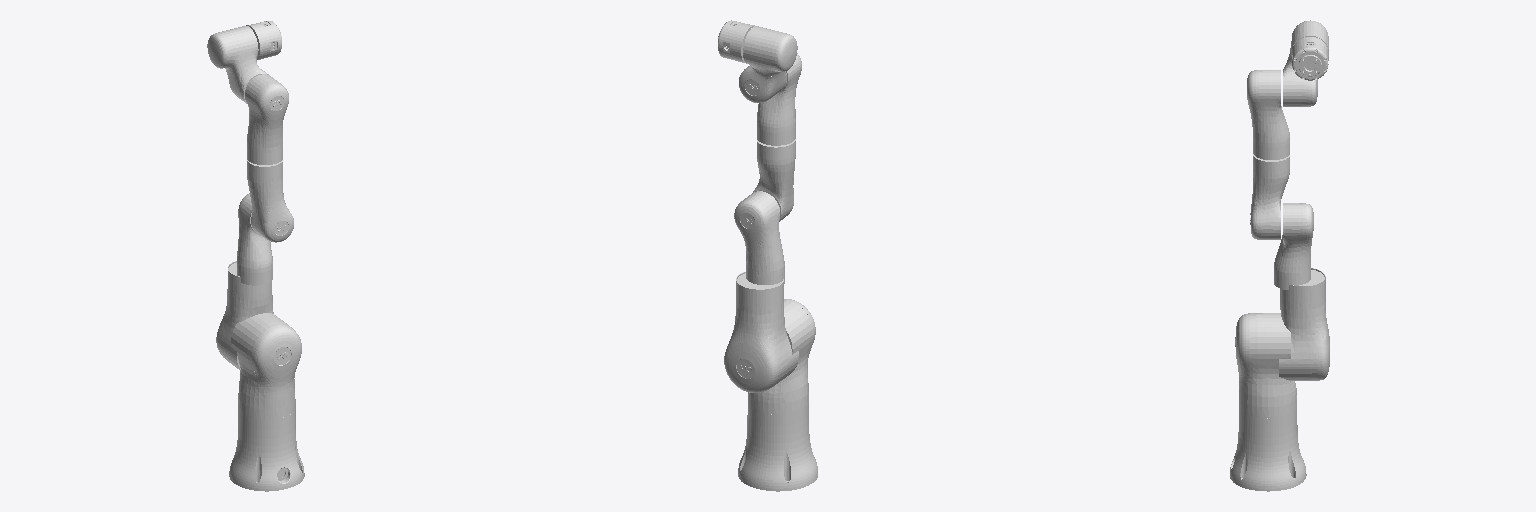
The robot description file, URDF, robot "Rizon4R":
<?xml version="1.0"?>
<!-- ======================================================================== -->
<!-- |          Flexiv Rizon 4R (with blurred dynamic parameters)           | -->
<!-- ======================================================================== -->
<robot name="Rizon4R">
    <joint name="joint1" type="revolute">
        <parent link="base_link" />
        <child link="link1" />
        <origin rpy="3.141592653589793 0.0 -3.141592653589793" xyz="0.0 0.0 0.155" />
        <axis xyz="0 0 1" />
        <limit effort="123" lower="-2.8798" upper="2.8798" velocity="2.0944" />
        <safety_controller k_position="100.0" k_velocity="40.0" soft_lower_limit="-2.7925"
            soft_upper_limit="2.7925" />
    </joint>
    <joint name="joint2" type="revolute">
        <parent link="link1" />
        <child link="link2" />
        <origin rpy="0.0 0.0 -3.141592653589793" xyz="0.0 0.03 -0.21" />
        <axis xyz="0 1 0" />
        <limit effort="123" lower="-2.3562" upper="2.3562" velocity="2.0944" />
        <safety_controller k_position="100.0" k_velocity="40.0" soft_lower_limit="-2.2689"
            soft_upper_limit="2.2689" />
    </joint>
    <joint name="joint3" type="revolute">
        <parent link="link2" />
        <child link="link3" />
        <origin rpy="0.0 0.0 -3.141592653589793" xyz="0.0 -0.035 -0.205" />
        <axis xyz="0 0 1" />
        <limit effort="64" lower="-3.0543" upper="3.0543" velocity="2.4435" />
        <safety_controller k_position="100.0" k_velocity="40.0" soft_lower_limit="-2.9671"
            soft_upper_limit="2.9671" />
    </joint>
    <joint name="joint4" type="revolute">
        <parent link="link3" />
        <child link="link4" />
        <origin rpy="0.0 0.0 0.0" xyz="-0.02 -0.03 -0.19" />
        <axis xyz="0 1 0" />
        <limit effort="64" lower="-1.9548" upper="2.7751" velocity="2.4435" />
        <safety_controller k_position="100.0" k_velocity="40.0" soft_lower_limit="-1.8675"
            soft_upper_limit="2.6878" />
    </joint>
    <joint name="joint5" type="revolute">
        <parent link="link4" />
        <child link="link5" />
        <origin rpy="0.0 0.0 0.0" xyz="0.02 -0.025 -0.195" />
        <axis xyz="0 0 1" />
        <limit effort="39" lower="-3.0543" upper="3.0543" velocity="4.8869" />
        <safety_controller k_position="100.0" k_velocity="40.0" soft_lower_limit="-2.9671"
            soft_upper_limit="2.9671" />
    </joint>
    <joint name="joint6" type="revolute">
        <parent link="link5" />
        <child link="link6" />
        <origin rpy="0.0 0.0 -3.141592653589793" xyz="0.0 0.03 -0.19" />
        <axis xyz="0 1 0" />
        <limit effort="39" lower="-1.4835" upper="4.6251" velocity="4.8869" />
        <safety_controller k_position="100.0" k_velocity="40.0" soft_lower_limit="-1.3963"
            soft_upper_limit="4.5379" />
    </joint>
    <joint name="joint7" type="revolute">
        <parent link="link6" />
        <child link="link7" />
        <origin rpy="0.0 -1.5707963478683205 0.0" xyz="0.015 -0.073 -0.11" />
        <axis xyz="0 0 1" />
        <limit effort="39" lower="-3.0543" upper="3.0543" velocity="4.8869" />
        <safety_controller k_position="100.0" k_velocity="40.0" soft_lower_limit="-2.9671"
            soft_upper_limit="2.9671" />
    </joint>
    <joint name="link7_to_flange" type="fixed">
        <parent link="link7" />
        <child link="flange" />
        <origin rpy="3.141592653589793 0.0 0.0" xyz="0.0 0.0 -0.081" />
    </joint>

    <link name="base_link">
        <inertial>
            <mass value="3.7" />
            <origin rpy="0 0 0" xyz="-0.0 0.0 0.09" />
            <inertia ixx="0.02" ixy="0.0" ixz="0.0" iyy="0.02" iyz="-0.0" izz="0.01" />
        </inertial>
        <visual name="shell">
            <origin rpy="0 0 3.141592653589793" xyz="0 0 0" />
            <geometry>
                <mesh filename="package://meshes/Rizon4R/visual/link0.obj" />
            </geometry>
            <material name="rizon_light_grey" />
        </visual>
        <collision name="convex_mesh">
            <origin rpy="0 0 3.141592653589793" xyz="0 0 0" />
            <geometry>
                <mesh filename="package://meshes/Rizon4R/collision/link0.stl" />
            </geometry>
        </collision>
        <workspace>
            <origin rpy="0 0 0" xyz="0 0 0.365" />
            <geometry>
                <sphere radius="0.890" />
            </geometry>
        </workspace>
    </link>
    <link name="link1">
        <inertial>
            <mass value="3.7" />
            <origin rpy="0 0 0" xyz="-0.0 0.01 -0.15" />
            <inertia ixx="0.03" ixy="0.0" ixz="0.0" iyy="0.03" iyz="-0.0" izz="0.01" />
        </inertial>
        <visual name="shell">
            <origin rpy="0 3.141592653589793 0" xyz="0 0 0" />
            <geometry>
                <mesh filename="package://meshes/Rizon4R/visual/link1.obj" />
            </geometry>
            <material name="rizon_light_grey" />
        </visual>
        <visual name="ring">
            <origin rpy="0 0 0" xyz="0 0 0.0025" />
            <geometry>
                <mesh filename="package://meshes/Rizon4R/visual/ring.obj" scale="0.062 0.062 0.002" />
            </geometry>
            <material name="rizon_white" />
        </visual>
        <collision name="convex_mesh">
            <origin rpy="0 3.141592653589793 0" xyz="0 0 0" />
            <geometry>
                <mesh filename="package://meshes/Rizon4R/collision/link1.stl" />
            </geometry>
        </collision>
    </link>
    <link name="link2">
        <inertial>
            <mass value="2.7" />
            <origin rpy="0 0 0" xyz="0.0 -0.04 -0.1" />
            <inertia ixx="0.02" ixy="0.0" ixz="0.0" iyy="0.02" iyz="-0.0" izz="0.0" />
        </inertial>
        <visual name="shell">
            <origin rpy="3.141592653589793 0 0" xyz="0 0 0" />
            <geometry>
                <mesh filename="package://meshes/Rizon4R/visual/link2.obj" />
            </geometry>
            <material name="rizon_light_grey" />
        </visual>
        <visual name="ring">
            <origin rpy="1.5707963 0 0" xyz="0 0.0025 0" />
            <geometry>
                <mesh filename="package://meshes/Rizon4R/visual/ring.obj" scale="0.062 0.062 0.002" />
            </geometry>
            <material name="rizon_white" />
        </visual>
        <collision name="convex_mesh">
            <origin rpy="3.141592653589793 0 0" xyz="0 0 0" />
            <geometry>
                <mesh filename="package://meshes/Rizon4R/collision/link2.stl" />
            </geometry>
        </collision>
    </link>
    <link name="link3">
        <inertial>
            <mass value="2.4" />
            <origin rpy="0 0 0" xyz="-0.01 -0.0 -0.13" />
            <inertia ixx="0.01" ixy="0.0" ixz="0.0" iyy="0.01" iyz="0.0" izz="0.0" />
        </inertial>
        <visual name="shell">
            <origin rpy="0 3.141592653589793 0" xyz="0 0 0" />
            <geometry>
                <mesh filename="package://meshes/Rizon4R/visual/link3r.obj" />
            </geometry>
            <material name="rizon_light_grey" />
        </visual>
        <visual name="ring">
            <origin rpy="0 0 0" xyz="0 0 0.0025" />
            <geometry>
                <mesh filename="package://meshes/Rizon4R/visual/ring.obj" scale="0.051 0.051 0.002" />
            </geometry>
            <material name="rizon_white" />
        </visual>
        <collision name="convex_mesh">
            <origin rpy="0 3.141592653589793 0" xyz="0 0 0" />
            <geometry>
                <mesh filename="package://meshes/Rizon4R/collision/link3r.stl" />
            </geometry>
        </collision>
    </link>
    <link name="link4">
        <inertial>
            <mass value="2.4" />
            <origin rpy="0 0 0" xyz="0.01 -0.03 -0.1" />
            <inertia ixx="0.02" ixy="0.0" ixz="-0.0" iyy="0.02" iyz="-0.0" izz="0.0" />
        </inertial>
        <visual name="shell">
            <origin rpy="3.141592653589793 0 0" xyz="0 0 0" />
            <geometry>
                <mesh filename="package://meshes/Rizon4R/visual/link4r.obj" />
            </geometry>
            <material name="rizon_light_grey" />
        </visual>
        <visual name="ring">
            <origin rpy="1.5707963 0 0" xyz="0 0.0025 0" />
            <geometry>
                <mesh filename="package://meshes/Rizon4R/visual/ring.obj" scale="0.051 0.051 0.002" />
            </geometry>
            <material name="rizon_white" />
        </visual>
        <collision name="convex_mesh">
            <origin rpy="3.141592653589793 0 0" xyz="0 0 0" />
            <geometry>
                <mesh filename="package://meshes/Rizon4R/collision/link4r.stl" />
            </geometry>
        </collision>
    </link>
    <link name="link5">
        <inertial>
            <mass value="2.4" />
            <origin rpy="0 0 0" xyz="0.0 0.0 -0.13" />
            <inertia ixx="0.01" ixy="0.0" ixz="0.0" iyy="0.01" iyz="-0.0" izz="0.0" />
        </inertial>
        <visual name="shell">
            <origin rpy="0 3.141592653589793 0" xyz="0 0 0" />
            <geometry>
                <mesh filename="package://meshes/Rizon4R/visual/link5.obj" />
            </geometry>
            <material name="rizon_light_grey" />
        </visual>
        <visual name="ring">
            <origin rpy="0 0 0" xyz="0 0 0.0025" />
            <geometry>
                <mesh filename="package://meshes/Rizon4R/visual/ring.obj" scale="0.051 0.051 0.002" />
            </geometry>
            <material name="rizon_white" />
        </visual>
        <collision name="convex_mesh">
            <origin rpy="0 3.141592653589793 0" xyz="0 0 0" />
            <geometry>
                <mesh filename="package://meshes/Rizon4R/collision/link5.stl" />
            </geometry>
        </collision>
    </link>
    <link name="link6">
        <inertial>
            <mass value="2.2" />
            <origin rpy="0 0 0" xyz="-0.02 -0.06 -0.07" />
            <inertia ixx="0.01" ixy="0.0" ixz="0.0" iyy="0.01" iyz="0.0" izz="0.0" />
        </inertial>
        <visual name="shell">
            <origin rpy="0 3.141592653589793 0" xyz="0 0 0" />
            <geometry>
                <mesh filename="package://meshes/Rizon4R/visual/link6r.obj" />
            </geometry>
            <material name="rizon_light_grey" />
        </visual>
        <visual name="ring">
            <origin rpy="1.5707963 0 0" xyz="0 0.0025 0" />
            <geometry>
                <mesh filename="package://meshes/Rizon4R/visual/ring.obj" scale="0.051 0.051 0.002" />
            </geometry>
            <material name="rizon_white" />
        </visual>
        <collision name="convex_mesh">
            <origin rpy="0 3.141592653589793 0" xyz="0 0 0" />
            <geometry>
                <mesh filename="package://meshes/Rizon4R/collision/link6r.stl" />
            </geometry>
        </collision>
    </link>
    <link name="link7">
        <inertial>
            <mass value="0.8" />
            <origin rpy="0 0 0" xyz="0.0 -0.0 0.03" />
            <inertia ixx="0.0" ixy="0.0" ixz="0.0" iyy="0.0" iyz="0.0" izz="0.0" />
        </inertial>
        <visual name="shell">
            <origin rpy="3.141592653589793 0 0" xyz="0 0 0" />
            <geometry>
                <mesh filename="package://meshes/Rizon4R/visual/link7.obj" />
            </geometry>
            <material name="rizon_light_grey" />
        </visual>
        <visual name="ring">
            <origin rpy="0 0 0" xyz="0 0 0.0025" />
            <geometry>
                <mesh filename="package://meshes/Rizon4R/visual/ring.obj" scale="0.051 0.051 0.002" />
            </geometry>
            <material name="rizon_white" />
        </visual>
        <collision name="convex_mesh">
            <origin rpy="3.141592653589793 0 0" xyz="0 0 0" />
            <geometry>
                <mesh filename="package://meshes/Rizon4R/collision/link7.stl" />
            </geometry>
        </collision>
    </link>
    <link name="flange">
        <inertial>
            <mass value="0.0" />
            <origin rpy="0 0 0" xyz="0.0 0.0 0.0" />
            <inertia ixx="0.0" ixy="0.0" ixz="0.0" iyy="0.0" iyz="0.0" izz="0.0" />
        </inertial>
    </link>
    <material name="rizon_blue">
        <color rgba="0. 0. 1. 0.5" />
    </material>
    <material name="rizon_light_grey">
        <color rgba="0.9 0.9 0.9 1" />
    </material>
    <material name="rizon_dark_grey">
        <color rgba="0.2 0.2 0.2 1" />
    </material>
    <material name="rizon_white">
        <color rgba="1 1 1 1" />
    </material>
</robot>

--- Facts derived from the render (not from the file) ---
Views: 3 orthographic renders of the robot side by side, from view 1: azimuth 30°, elevation 25°; view 2: azimuth 150°, elevation 25°; view 3: azimuth 270°, elevation 25°.
Robot: Rizon4R — 9 links, 8 joints (7 revolute, 1 fixed); root link base_link; default pose: all joints at 0.
Visible links, largest first — view 1: link1, base_link, link5, link4, link6, link2, link3, link7; view 2: link2, base_link, link3, link1, link6, link5, link4, link7; view 3: link1, base_link, link2, link5, link3, link4, link6, link7.
Link boxes in pixels (x1,y1,x2,y2): link1: [231, 313, 301, 431]; base_link: [229, 409, 304, 491]; link5: [245, 74, 288, 164]; link4: [247, 160, 293, 242]; link6: [207, 26, 268, 103]; link2: [216, 261, 273, 369]; link3: [237, 193, 272, 285]; link7: [246, 21, 281, 59]; link2: [724, 272, 798, 392]; base_link: [738, 404, 817, 491]; link3: [734, 191, 784, 284]; link1: [748, 299, 815, 426]; link6: [739, 26, 797, 102]; link5: [757, 53, 801, 145]; link4: [753, 139, 795, 221]; link7: [718, 20, 754, 63]; link1: [1235, 313, 1296, 429]; base_link: [1230, 409, 1306, 491]; link2: [1279, 268, 1329, 380]; link5: [1247, 70, 1289, 159]; link3: [1274, 203, 1313, 289]; link4: [1250, 154, 1289, 239]; link6: [1283, 20, 1328, 106]; link7: [1292, 37, 1328, 80].
Bounding box of the posed robot: 0.2085 × 0.2698 × 1.3 m (x, y, z).
Meshes: 9 distinct files referenced, 8 mesh visuals loaded (8 OBJ); not drawn: 7 (file found but could not be loaded).